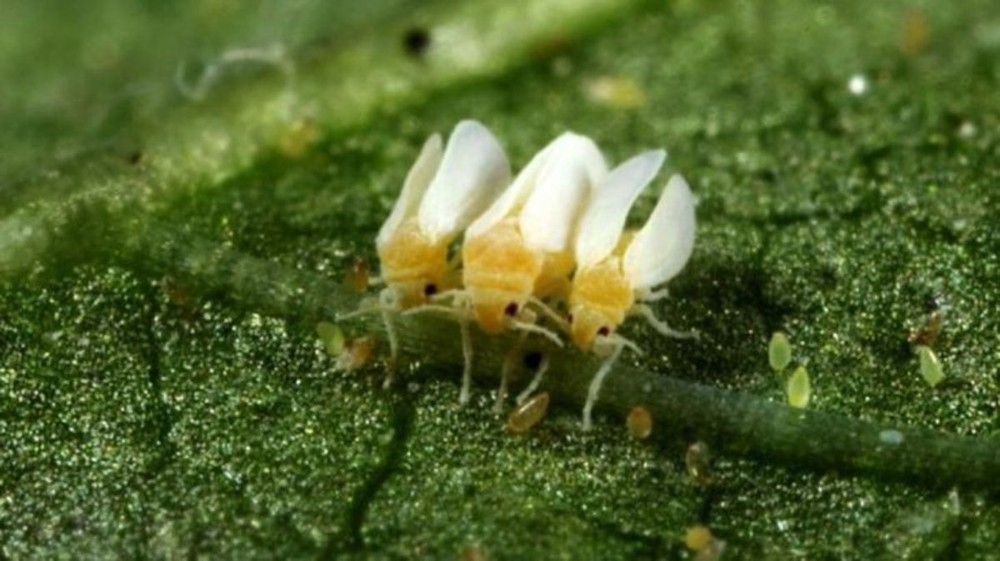Mosca Blanca: (469, 75, 605, 430), (350, 101, 510, 386), (575, 117, 700, 433)
